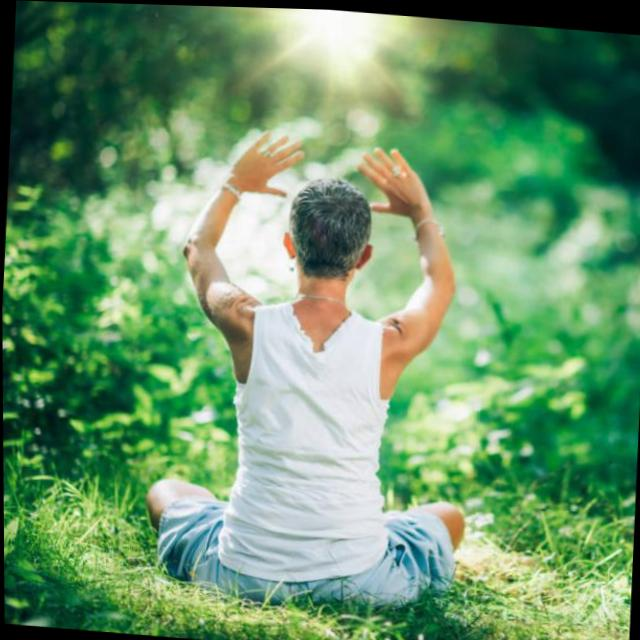no helmet: (252, 159, 404, 323)
